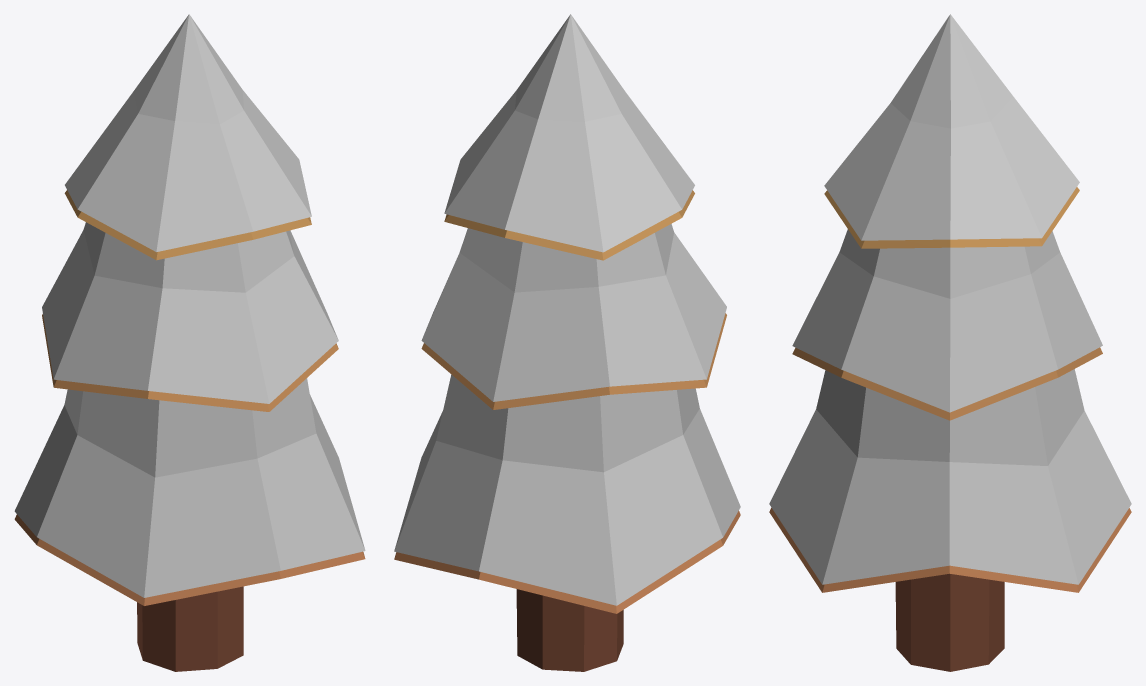
Rendered from Tree_01_winter_gradient_yellow_vc.fbx.
3 views of the same model, side by side, from view 1: azimuth 30°, elevation 25°; view 2: azimuth 150°, elevation 25°; view 3: azimuth 270°, elevation 25° (orthographic).
Parts seen in each view (by area): view 1: Tree_01_winter_gradient_yellow_vc; view 2: Tree_01_winter_gradient_yellow_vc; view 3: Tree_01_winter_gradient_yellow_vc.
Boxes of the visible parts, box(x1,y1,x2,y2) form: Tree_01_winter_gradient_yellow_vc: box(14, 14, 365, 671); Tree_01_winter_gradient_yellow_vc: box(394, 14, 740, 671); Tree_01_winter_gradient_yellow_vc: box(769, 14, 1131, 671).
Bounding box in the file's own units: 83.22 × 167 × 86.78.
